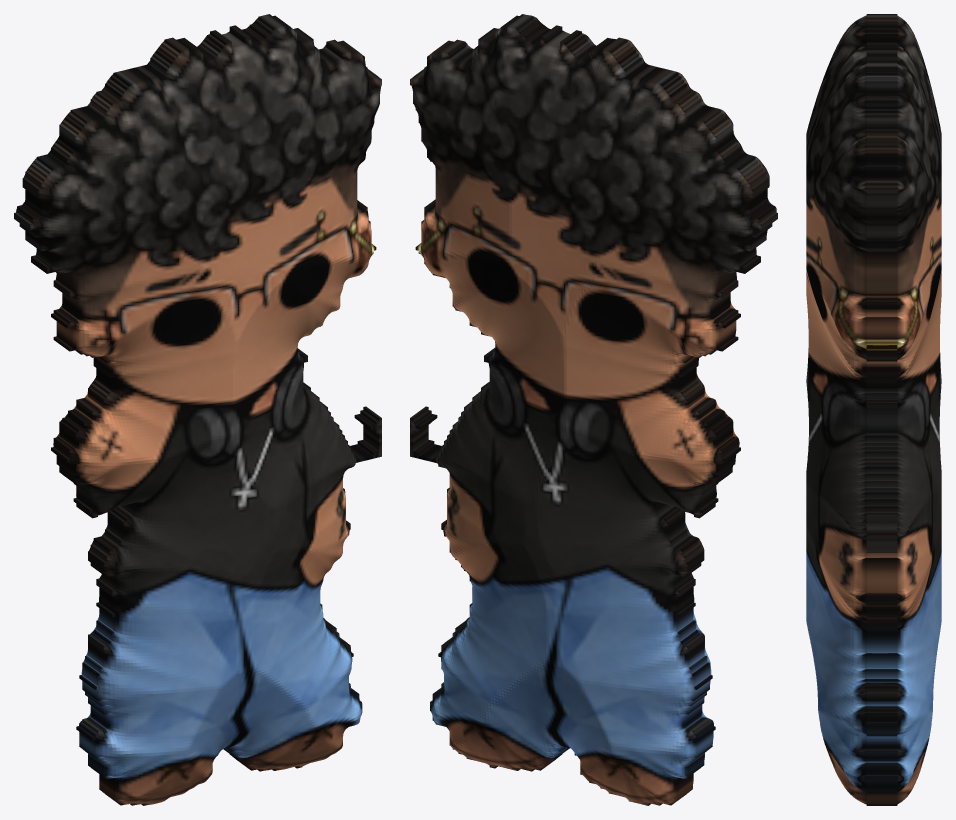
File: Matheus.glb
The picture shows the model from 3 angles, left to right: view 1: azimuth 30°, elevation 25°; view 2: azimuth 150°, elevation 25°; view 3: azimuth 270°, elevation 25°; orthographic projection. The views are drawn at different scales.
Visible parts, largest first — view 1: Matheus; view 2: Matheus; view 3: Matheus.
Part boxes in pixels (x1,y1,x2,y2): Matheus: [14, 14, 381, 805]; Matheus: [410, 14, 777, 805]; Matheus: [806, 14, 941, 805].
Bounding box in the file's own units: 1.24 × 2.51 × 0.427.
Materials: 1 (1 with a texture image).
